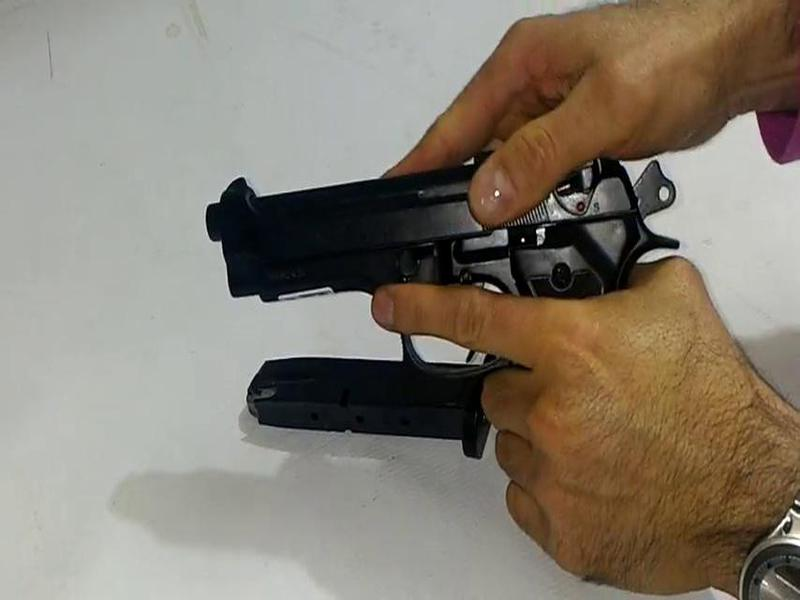Pistola: (193, 136, 723, 483)
